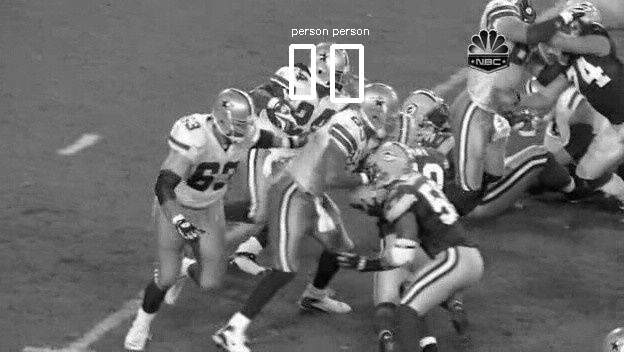person: (317, 41, 352, 86), (316, 41, 351, 86), (318, 41, 353, 86), (317, 40, 352, 85), (317, 42, 352, 87)
target_negative: (449, 46, 602, 333), (164, 63, 310, 223), (328, 122, 434, 286), (232, 31, 280, 302), (1, 318, 165, 328), (559, 279, 581, 302)
